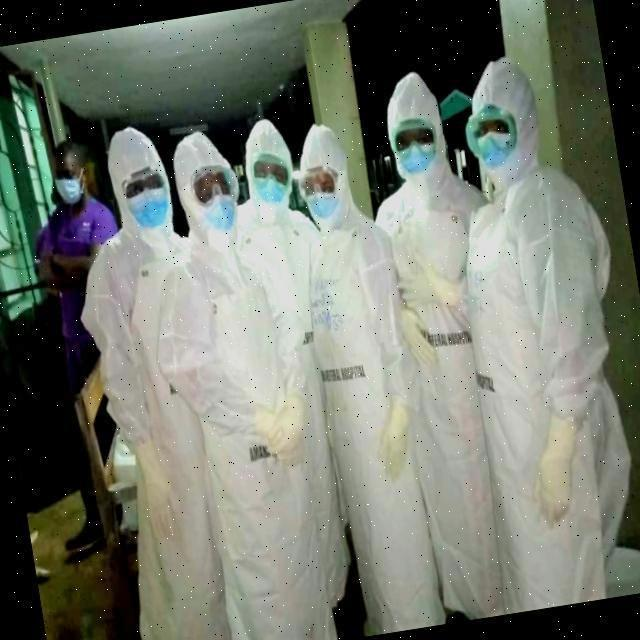apron: (532, 415, 592, 534), (119, 434, 191, 532), (237, 393, 310, 473), (389, 252, 469, 312), (370, 395, 417, 477), (389, 307, 442, 367)
